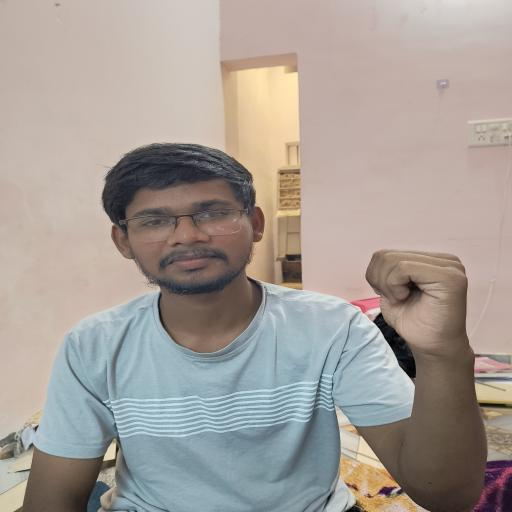wait: (340, 234, 504, 366)
